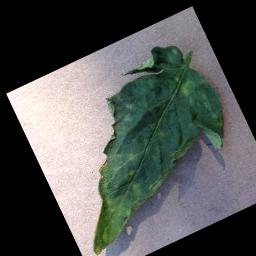Leaf_Mold: (24, 30, 256, 256)
